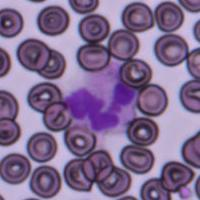N: (62, 57, 140, 134)
